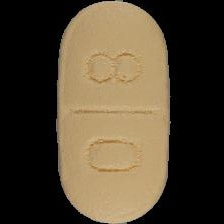13107-031: (0, 0, 224, 224)
